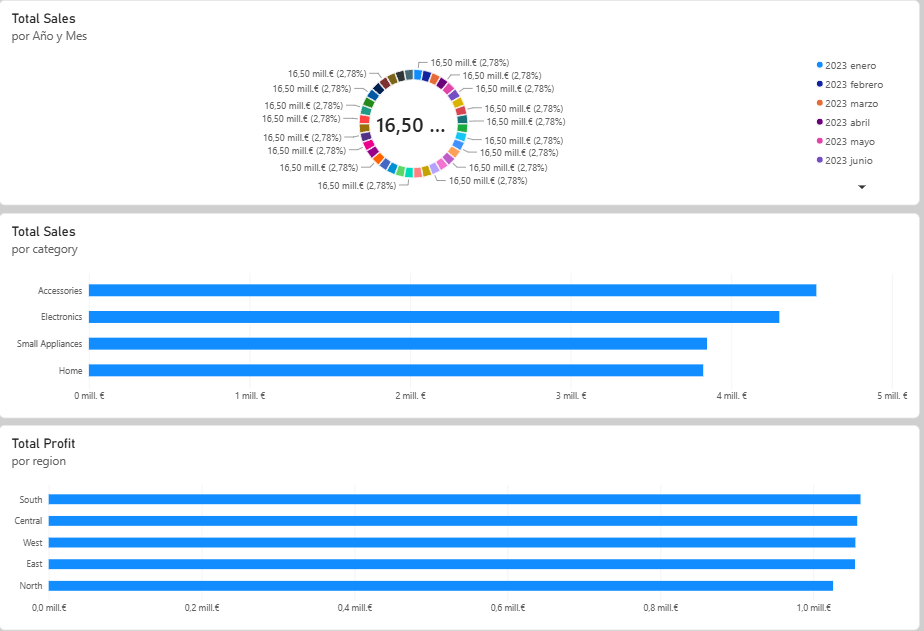

The page's visual inventory and layout, read from the dashboard file:
{"tool":"powerbi","page":{"name":"Executive Overview","canvas":[1920,1080],"ordinal":0},"visuals":[{"type":"donutChart","fields":{"Category":["retail dim_date.full_date.Variation.Jerarquía de fechas.Año","retail dim_date.full_date.Variation.Jerarquía de fechas.Mes"],"Y":["retail fact_sales.Total Sales"]},"box":[9.6,0,1260.4,280.5],"z":0},{"type":"clusteredBarChart","fields":{"Category":["retail dim_product.category"],"Y":["retail fact_sales.Total Sales"]},"box":[10,291,1260,281],"z":1},{"type":"clusteredBarChart","fields":{"Category":["retail dim_store.region"],"Y":["retail fact_sales.Total Profit"]},"box":[10,582,1260,281],"z":2}]}

Visuals, with their boxes on the page's 1920x1080 design canvas (x1, y1, x2, y2). These are canvas units, not pixel positions in the 924x631 screenshot, which may show the page scaled, cropped or inside an application window:
donutChart - retail dim_date.full_date.Variation.Jerarquía de fechas.Año x retail dim_date.full_date.Variation.Jerarquía de fechas.Mes: (10,0,1270,280)
clusteredBarChart - retail dim_product.category x retail fact_sales.Total Sales: (10,291,1270,572)
clusteredBarChart - retail dim_store.region x retail fact_sales.Total Profit: (10,582,1270,863)
